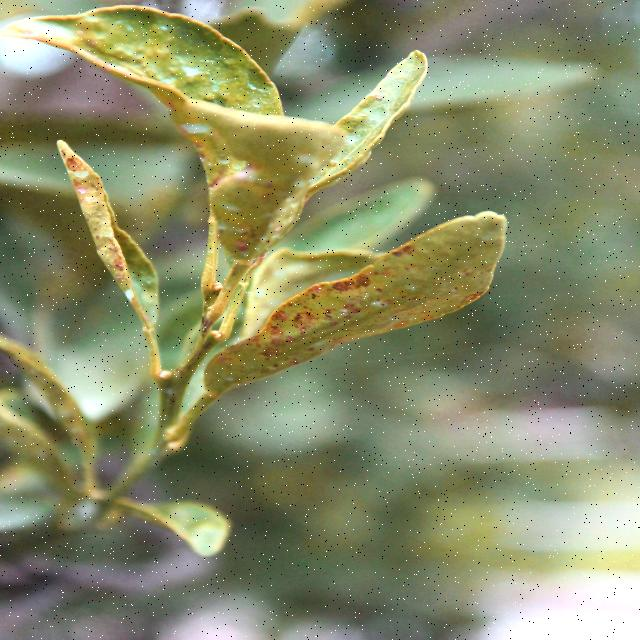canker: (225, 226, 510, 409), (58, 148, 178, 342), (195, 106, 327, 255)
